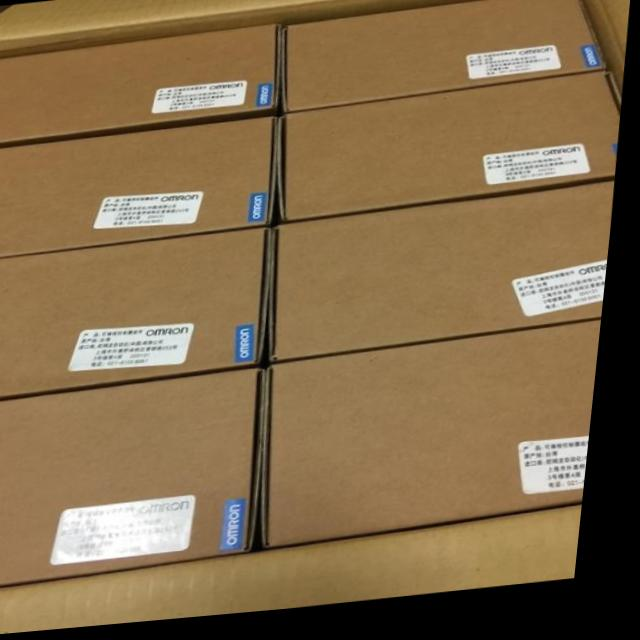box: (272, 330, 609, 555), (277, 191, 619, 367), (0, 372, 274, 588), (280, 82, 623, 227), (0, 232, 275, 398), (282, 0, 609, 119), (0, 120, 279, 258), (0, 28, 281, 142)
